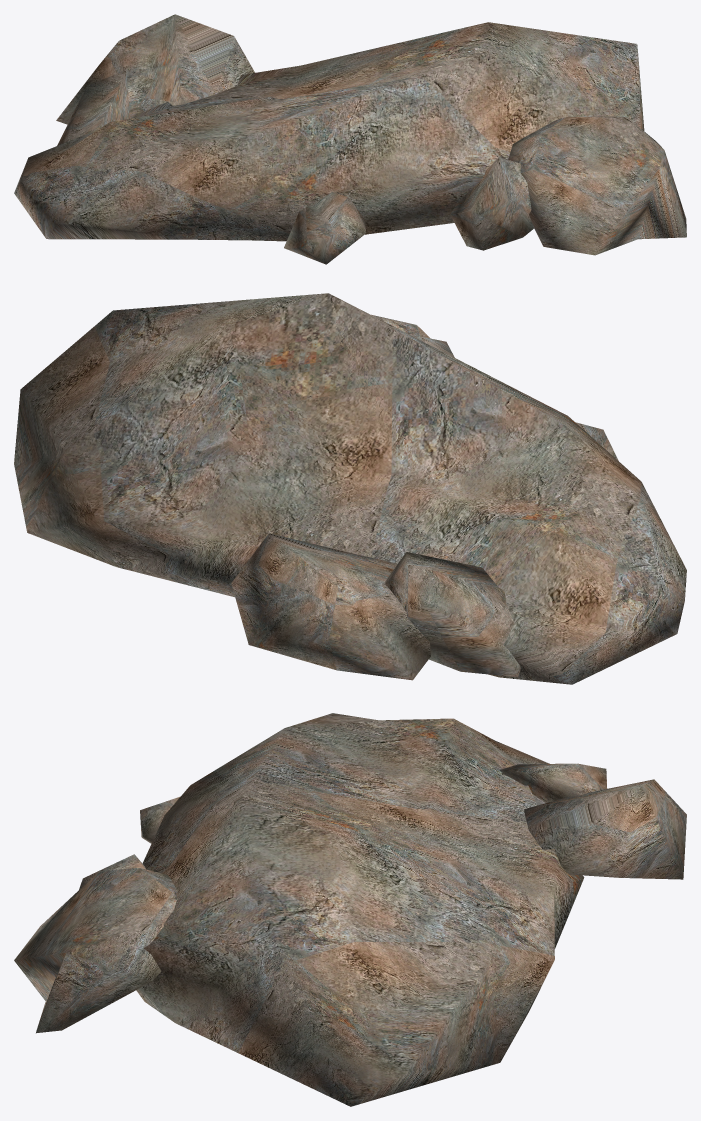
File: rock_forestrockcluster_l2.fbx
The picture shows the model from 3 angles, top to bottom: view 1: azimuth 30°, elevation 25°; view 2: azimuth 150°, elevation 25°; view 3: azimuth 270°, elevation 25°; orthographic projection. The views are drawn at different scales.
Parts seen in each view (by area): view 1: mesh_node; view 2: mesh_node; view 3: mesh_node.
Part boxes in pixels (bbox=[...]): mesh_node: bbox=[14, 14, 686, 264]; mesh_node: bbox=[14, 293, 686, 684]; mesh_node: bbox=[14, 713, 686, 1106].
Bounding box in the file's own units: 4.55 × 1.29 × 4.01.
